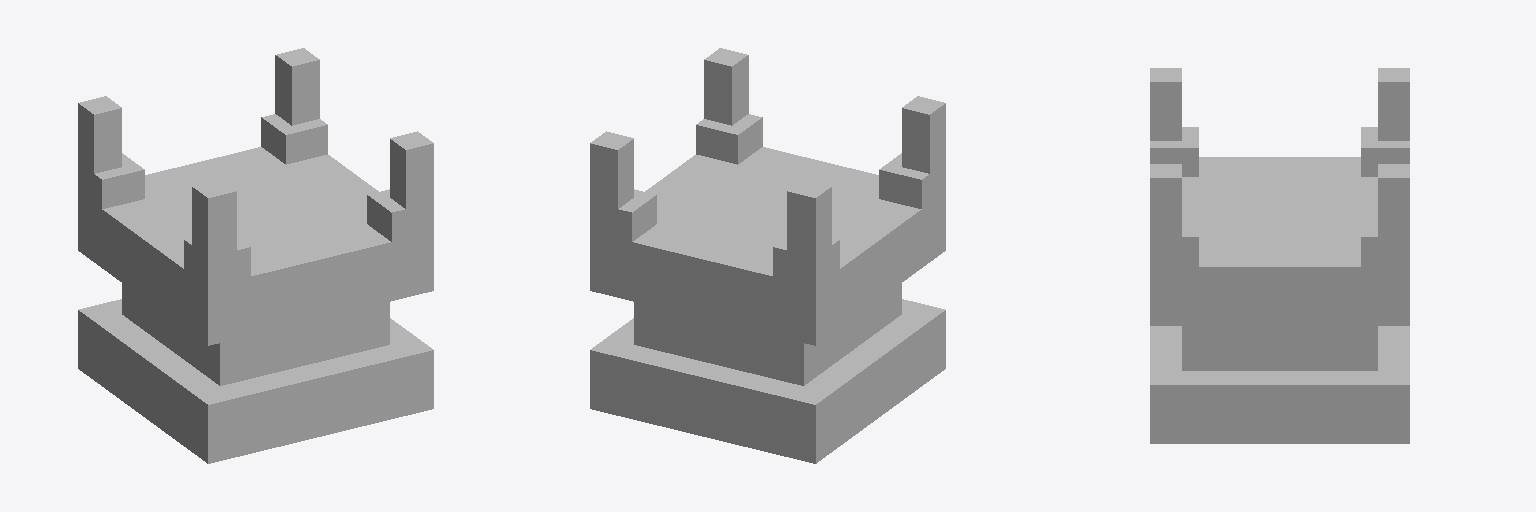
The model's file is rift_monitor.obj.
3 renders of one model, left to right at view 1: azimuth 30°, elevation 25°; view 2: azimuth 150°, elevation 25°; view 3: azimuth 270°, elevation 25°, orthographic.
Visible parts, largest first — view 1: Base_Cube.007; view 2: Base_Cube.007; view 3: Base_Cube.007.
Part boxes in pixels (x1,y1,x2,y2): Base_Cube.007: (78, 48, 433, 463); Base_Cube.007: (590, 48, 945, 463); Base_Cube.007: (1150, 68, 1409, 443).
Size of the model in its own units: 1 by 1.12 by 1.